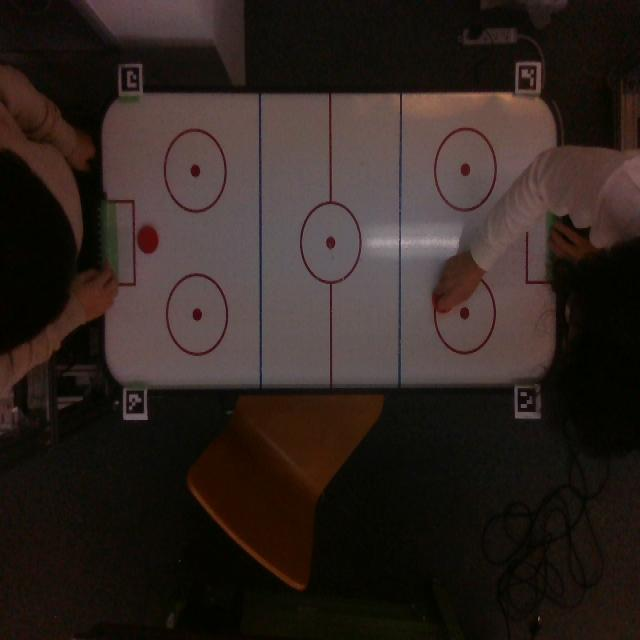puck: (137, 225, 158, 254)
